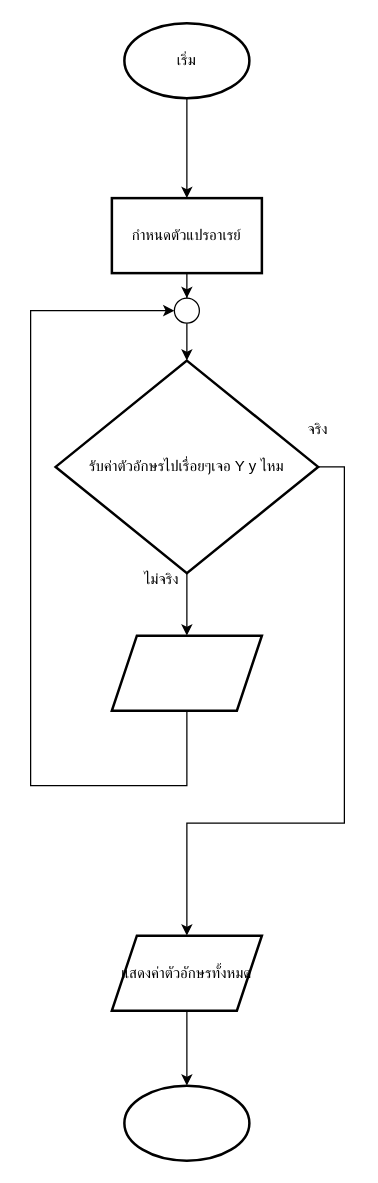
Some shapes in this 378 by 1183 pixel diagram are drawn without their labels. The shapes that lost their labels are listed below. From the top down, each one's centre as x and y in pixels, then its label:
At (x=186, y=672): "กรอกตัวอักษร".
At (x=186, y=1122): "จบ".
